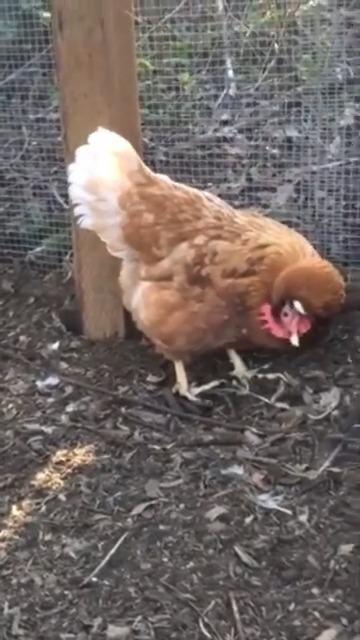AbNormal: (75, 136, 345, 404)
